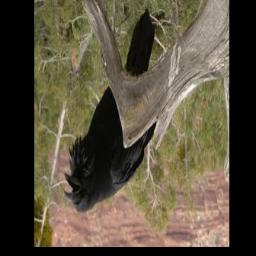Crow: (62, 7, 157, 214)
